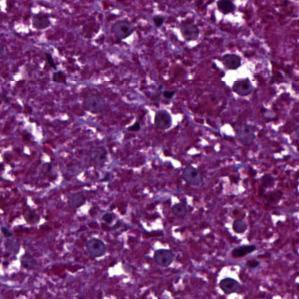inflammation: (215, 49, 261, 101), (213, 262, 246, 299), (146, 103, 184, 134), (20, 9, 55, 40), (168, 17, 205, 46), (206, 0, 251, 23), (145, 241, 181, 268)
